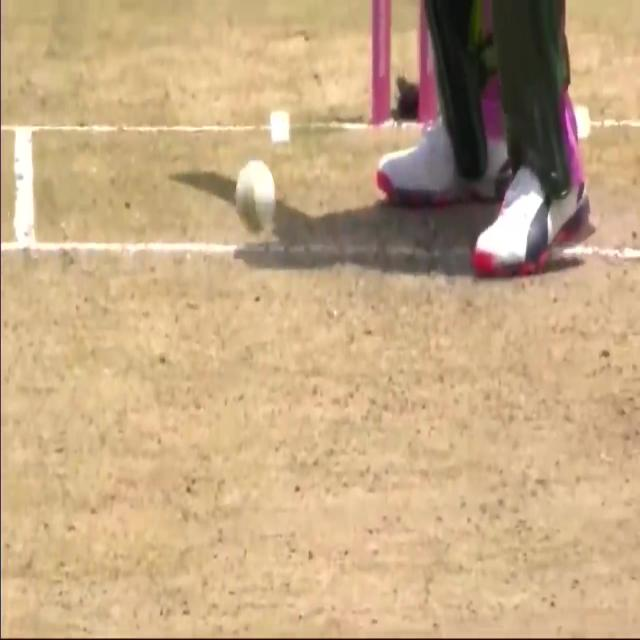Batsman: (230, 154, 286, 242)
